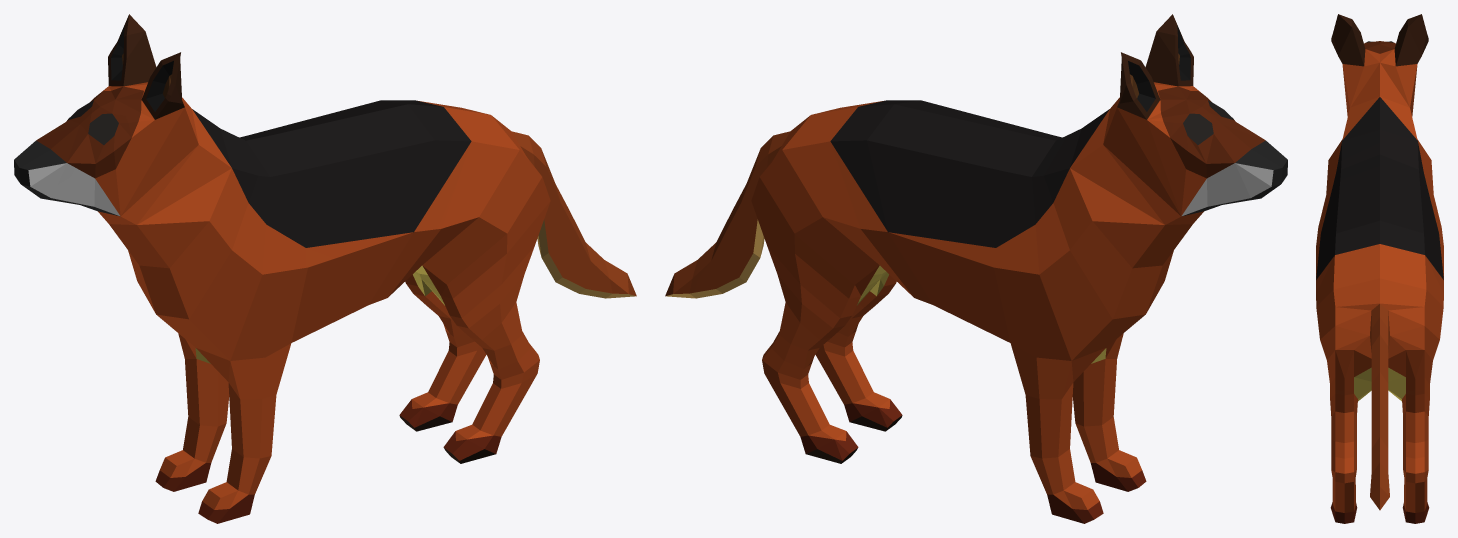
File: dog.obj
3 renders of one model, left to right at view 1: azimuth 30°, elevation 25°; view 2: azimuth 150°, elevation 25°; view 3: azimuth 270°, elevation 25°, orthographic. The views are drawn at different scales.
Visible parts, largest first — view 1: Plane; view 2: Plane; view 3: Plane.
Boxes of the visible parts, x1=… form: Plane: x1=14, y1=14, x2=636, y2=523; Plane: x1=665, y1=14, x2=1287, y2=523; Plane: x1=1316, y1=14, x2=1443, y2=523.
Size of the model in its own units: 9.17 by 6.8 by 2.04.
